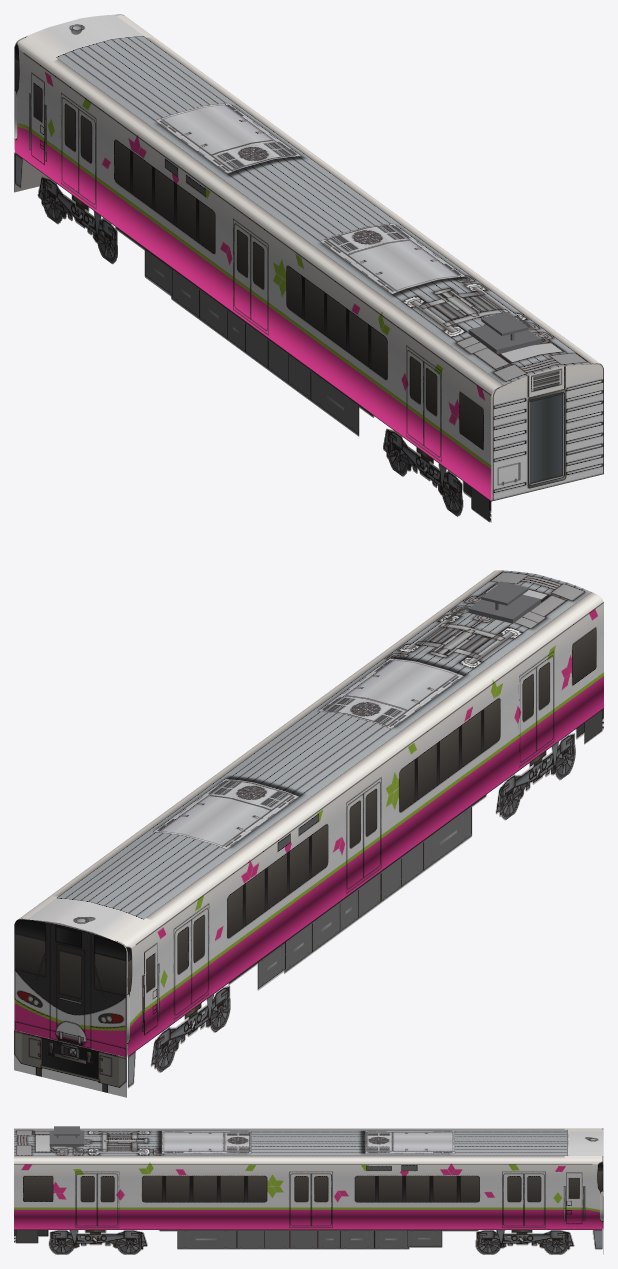
File: car2.glb
3 views of the same model, one above another, from view 1: azimuth 30°, elevation 25°; view 2: azimuth 150°, elevation 25°; view 3: azimuth 270°, elevation 25° (orthographic). The views are drawn at different scales.
Visible parts, largest first — view 1: car2; view 2: car2; view 3: car2.
Boxes of the visible parts, x1,y1,x2,y2 form: car2: [14, 14, 603, 522]; car2: [14, 570, 603, 1097]; car2: [14, 1126, 603, 1254].
Bounding box in the file's own units: 2.8 × 4.12 × 20.52.
6 materials, 5 textured.
